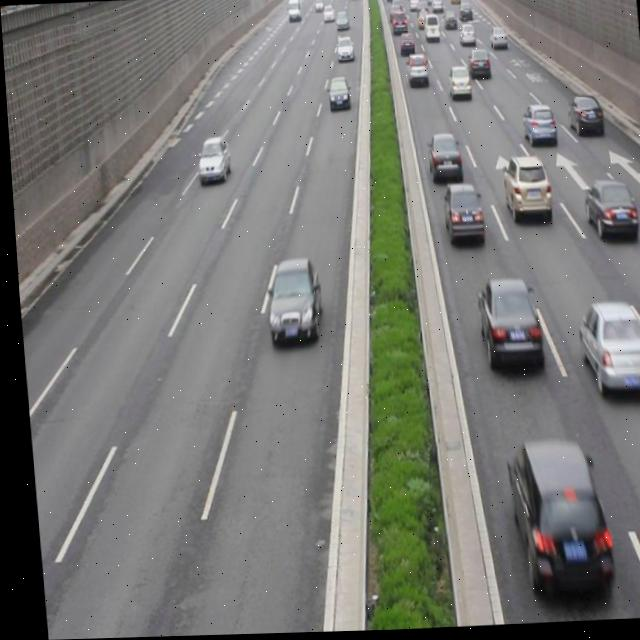car: (496, 438, 606, 602), (569, 299, 640, 401), (471, 277, 539, 375), (262, 262, 318, 345), (496, 154, 547, 223), (578, 181, 633, 242), (436, 188, 480, 247), (424, 134, 460, 185), (192, 136, 227, 184), (518, 107, 555, 152), (563, 97, 599, 140), (445, 67, 470, 103), (403, 55, 428, 90), (464, 49, 489, 83), (324, 77, 349, 109)
